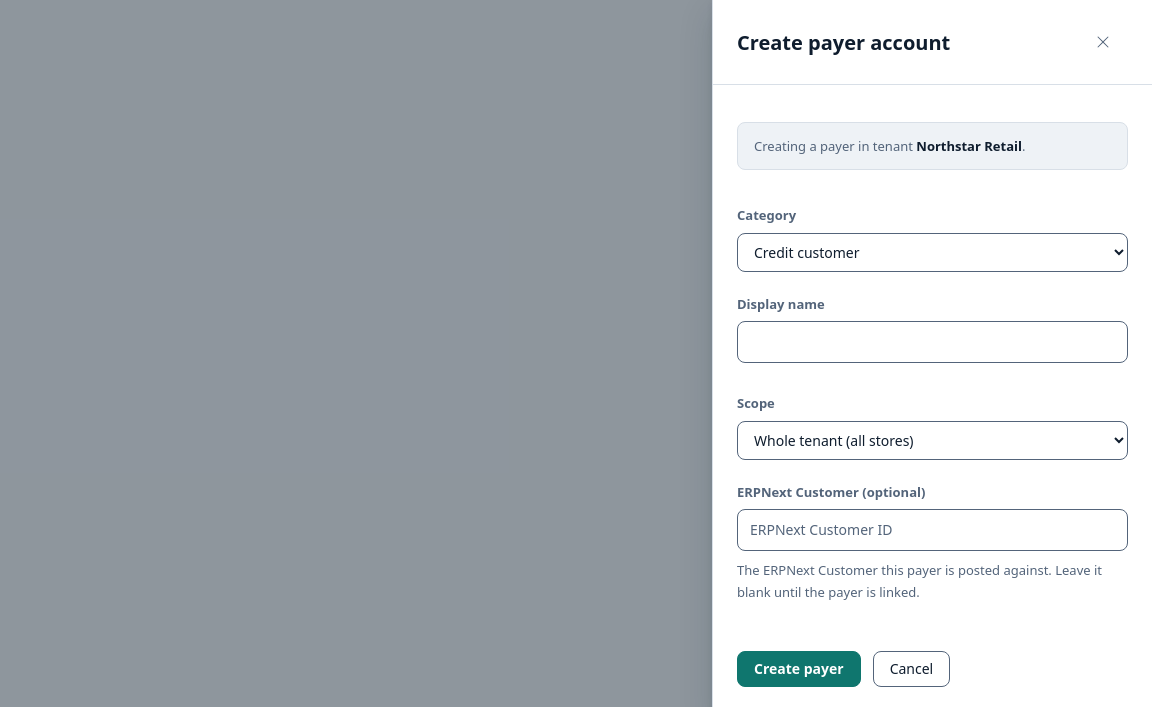
PayerCreate › 404 (an out-of-scope store) -> a non-disclosing banner, not the generic error
This screenshot has width=1152, height=707.
Type "MedCover Insurance" into the field labelled "Display name" at (932, 342), box top-left (737, 321), bottom-right (1128, 363)
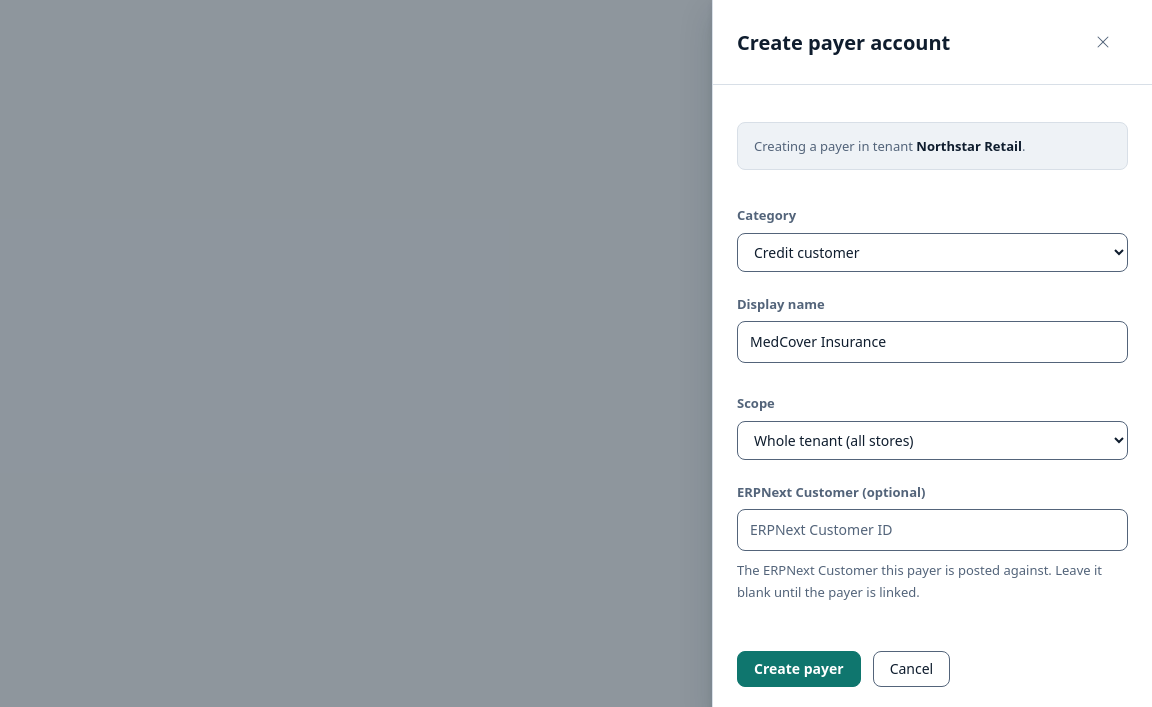
Click the button "Create payer" at (799, 669), box top-left (737, 651), bottom-right (861, 687)
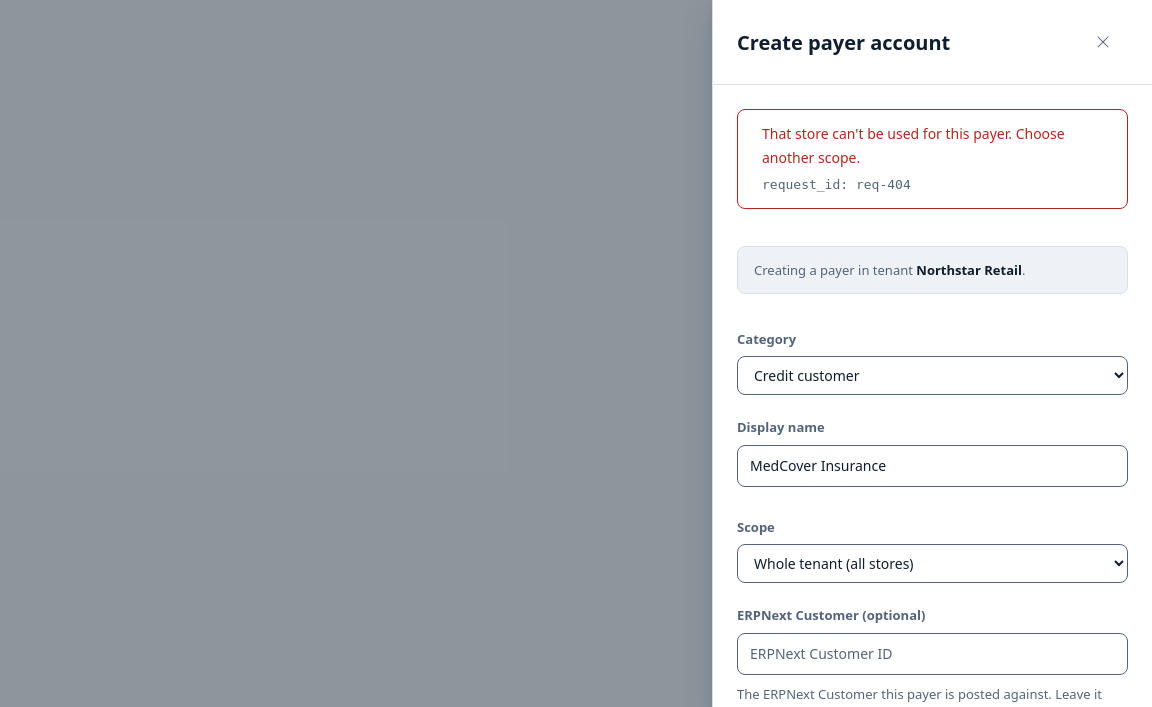
Expected: the text "That store can't be used for this payer. Choose another scope." is shown, top-left (762, 122), bottom-right (1103, 170)
